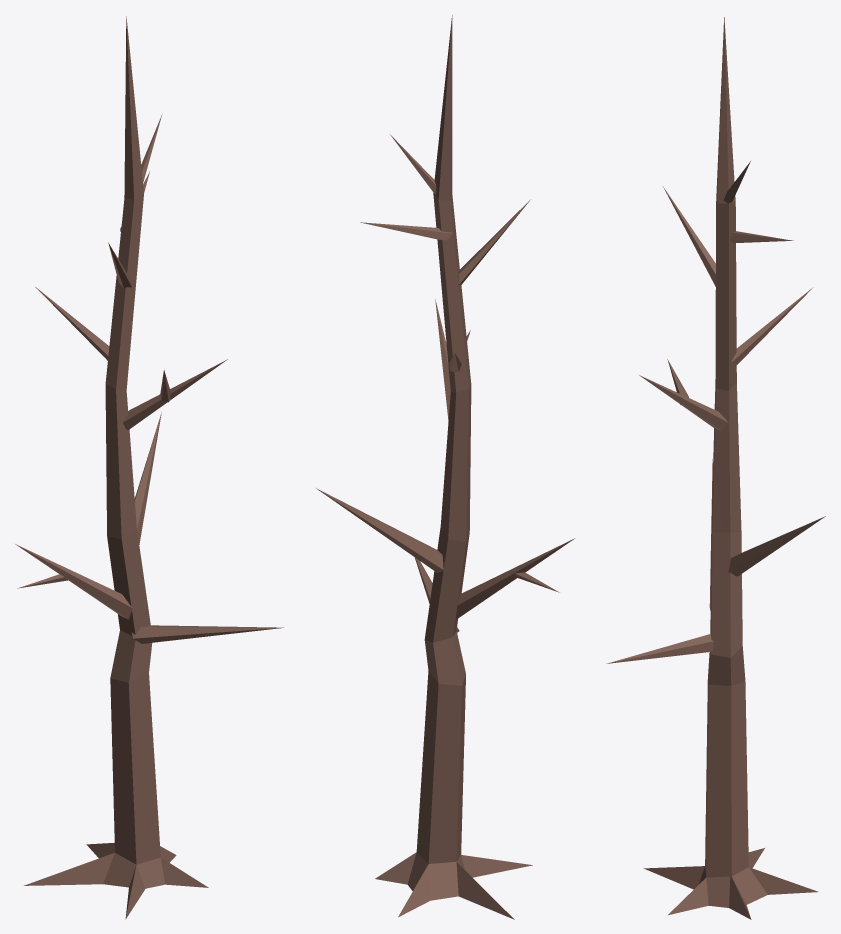
Rendered from Arvore_seca.fbx.
3 views of the same model, side by side, from view 1: azimuth 30°, elevation 25°; view 2: azimuth 150°, elevation 25°; view 3: azimuth 270°, elevation 25° (orthographic).
Visible parts, largest first — view 1: tree-dry; view 2: tree-dry; view 3: tree-dry.
Boxes of the visible parts, bbox=[...] form: tree-dry: bbox=[15, 16, 283, 919]; tree-dry: bbox=[316, 15, 574, 919]; tree-dry: bbox=[606, 17, 825, 919].
Size of the model in its own units: 221 by 837 by 192.
